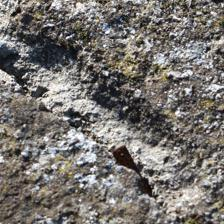Crack: (8, 44, 151, 173)
